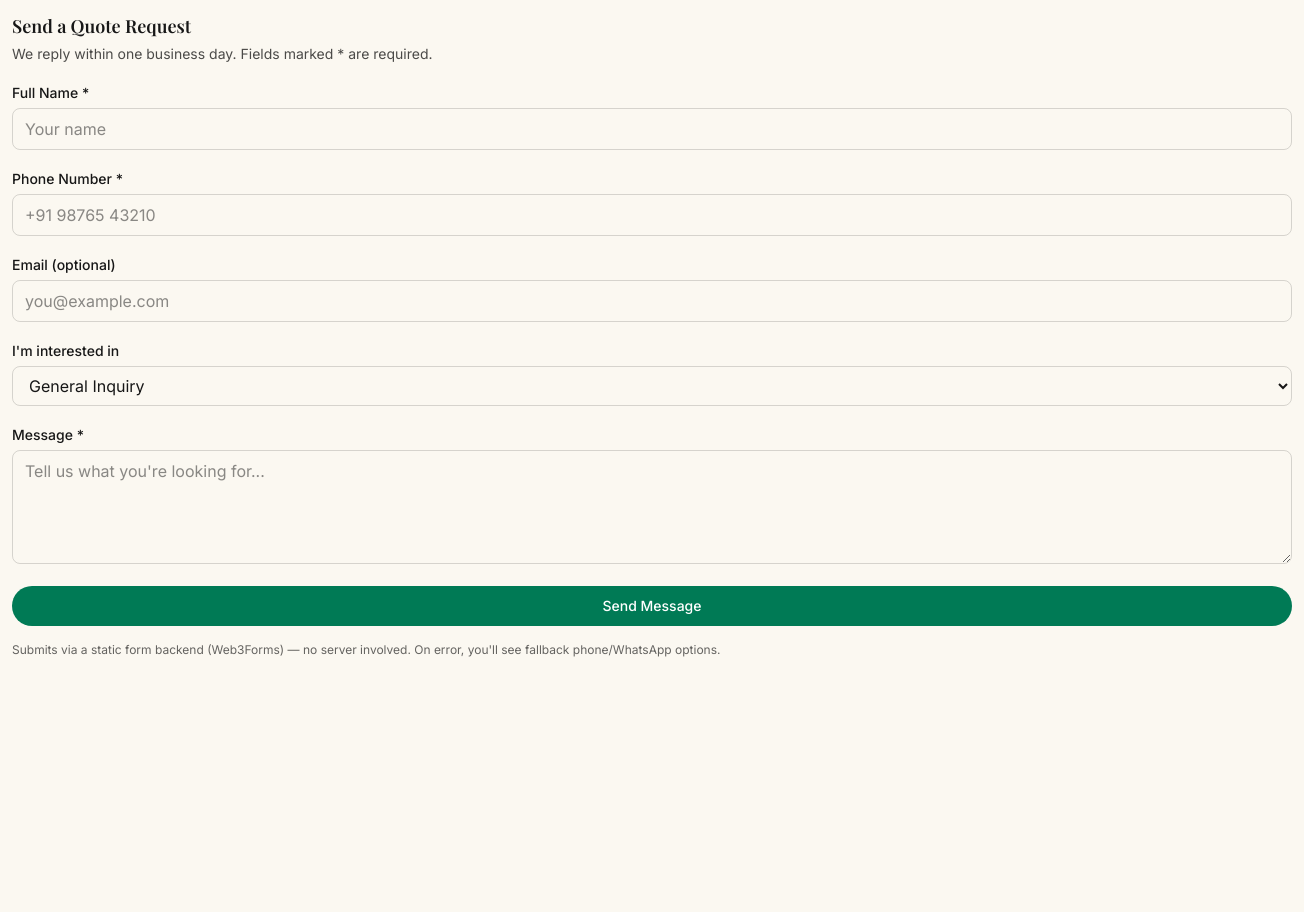
it: ContactForm › shows an error state with fallback contact options on a failed submission
Type "Anitha R." into the field labelled "Full Name *" at x=652, y=129, box [12,108,1292,150]
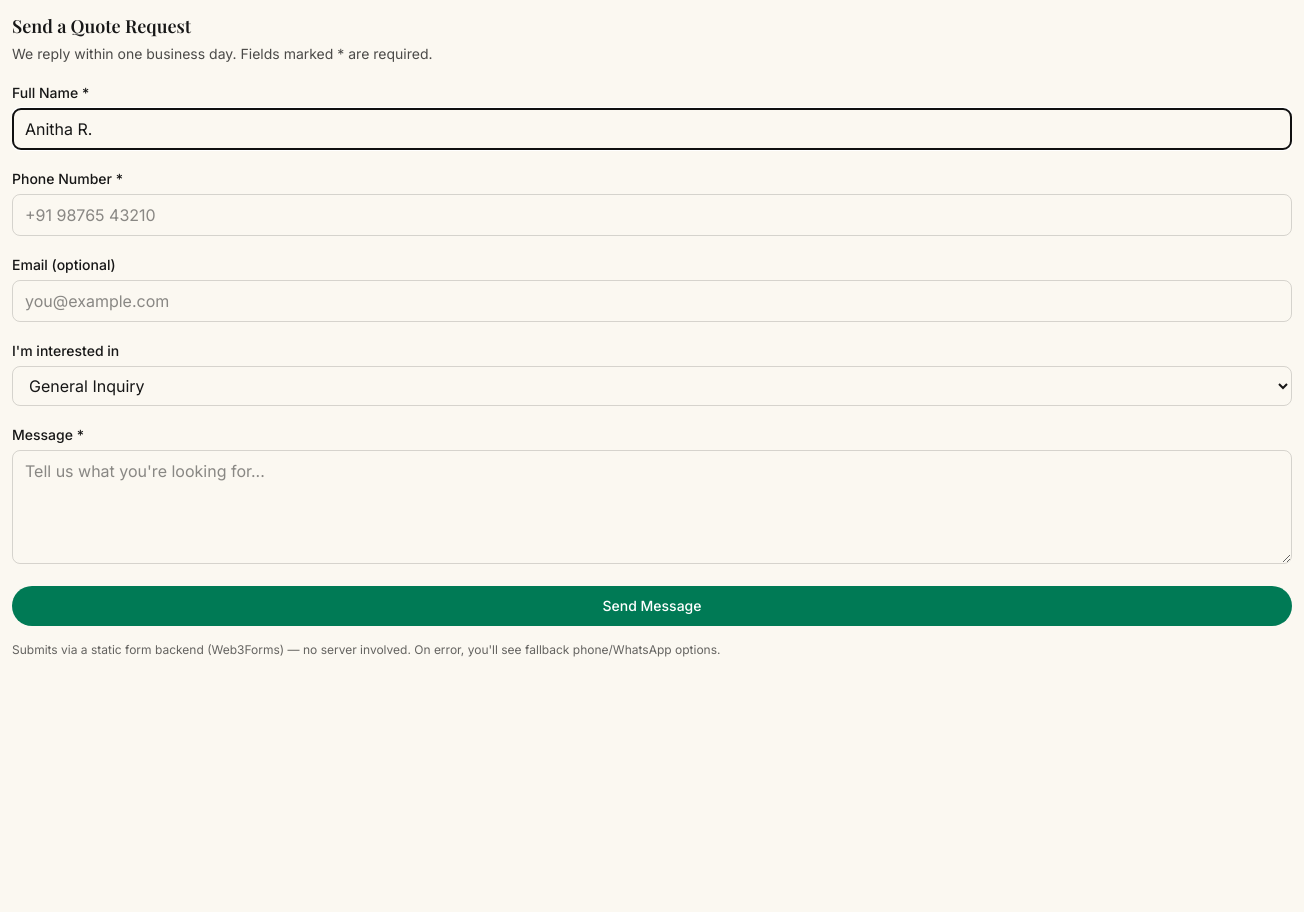
Type "+919876543210" into the field labelled "Phone Number *" at x=652, y=215, box [12,194,1292,236]
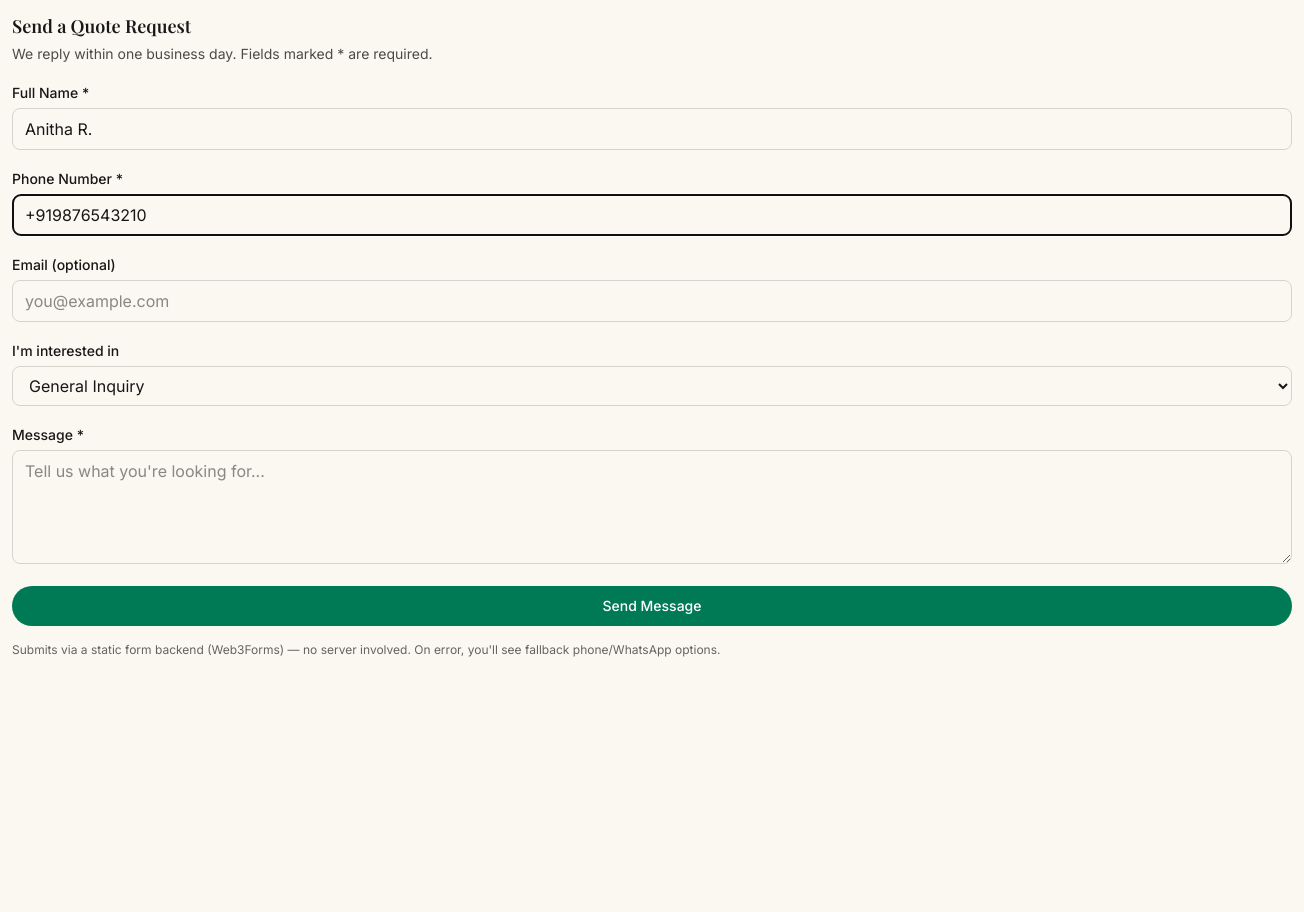
Type "Looking for a garden design quote." into the text box labelled "Message *" at x=652, y=507, box [12,450,1292,564]
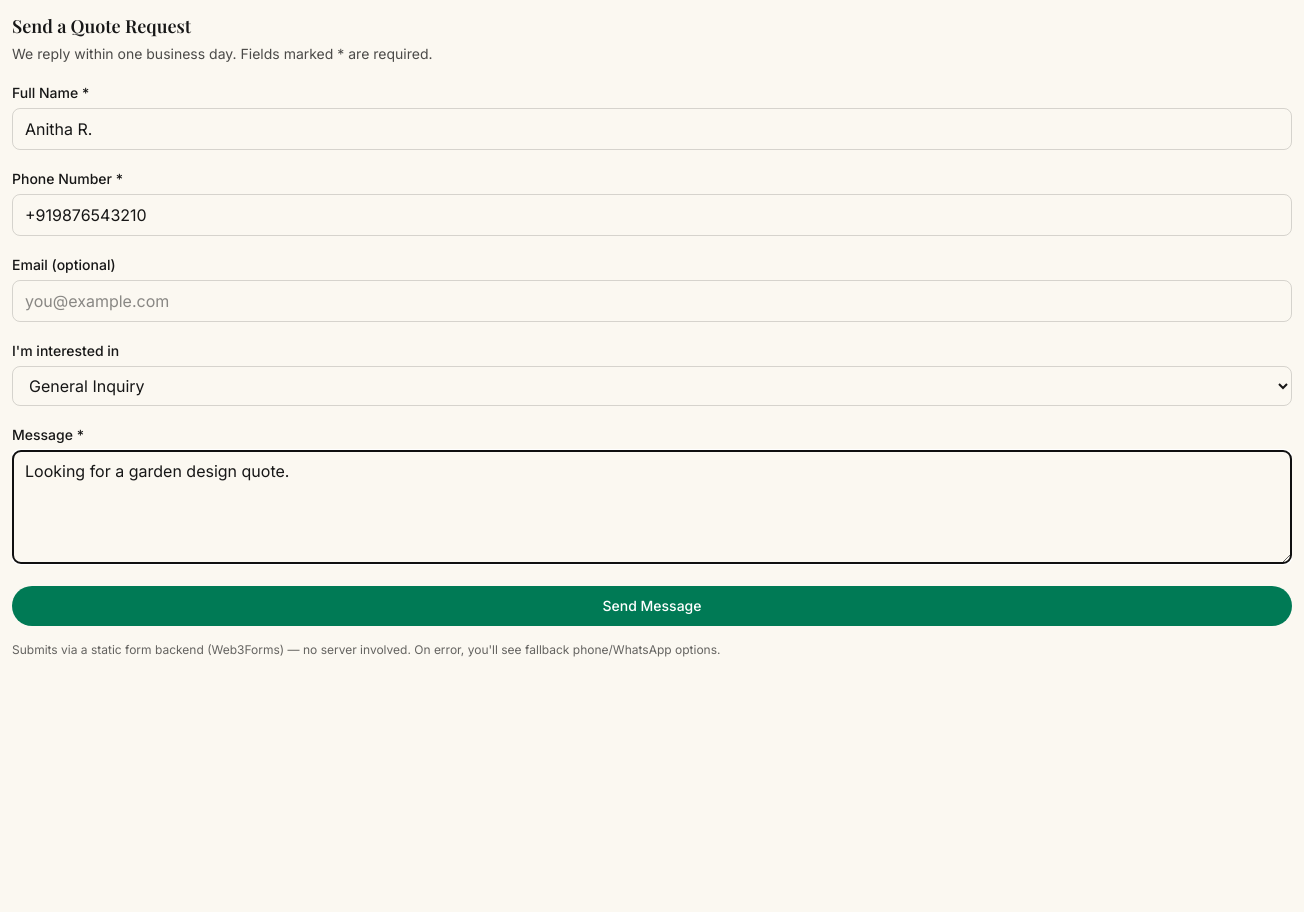
Click the button "Send Message" at x=652, y=606, box [12,586,1292,626]
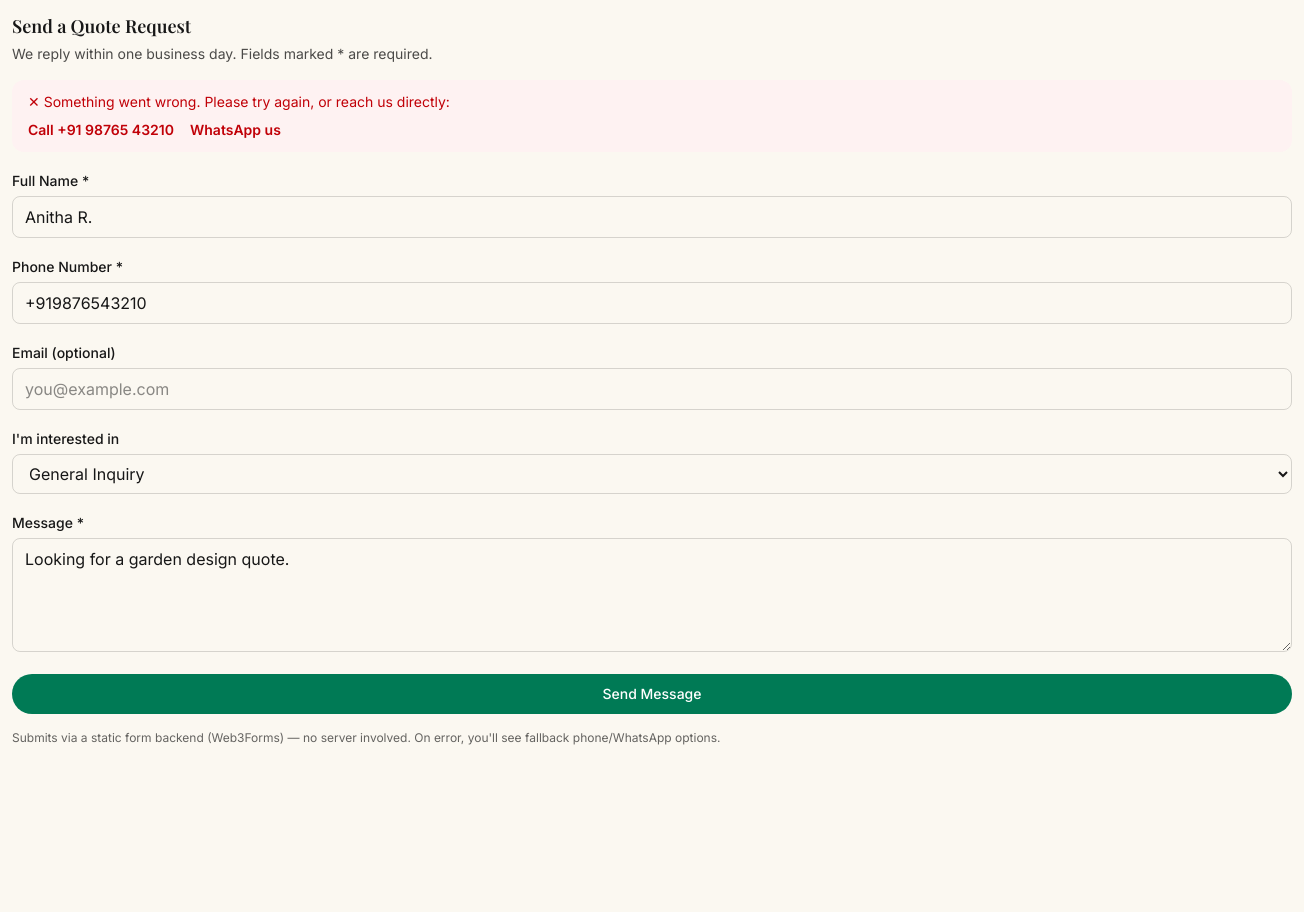
Now the message shows "Something went wrong", box [28,93,450,110]
